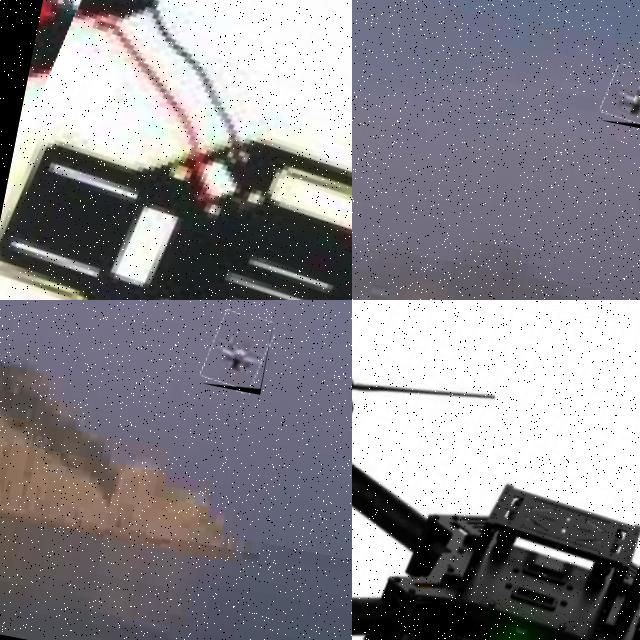0: (202, 310, 274, 395), (600, 64, 640, 132)
drone: (0, 0, 352, 300), (352, 306, 640, 640)
